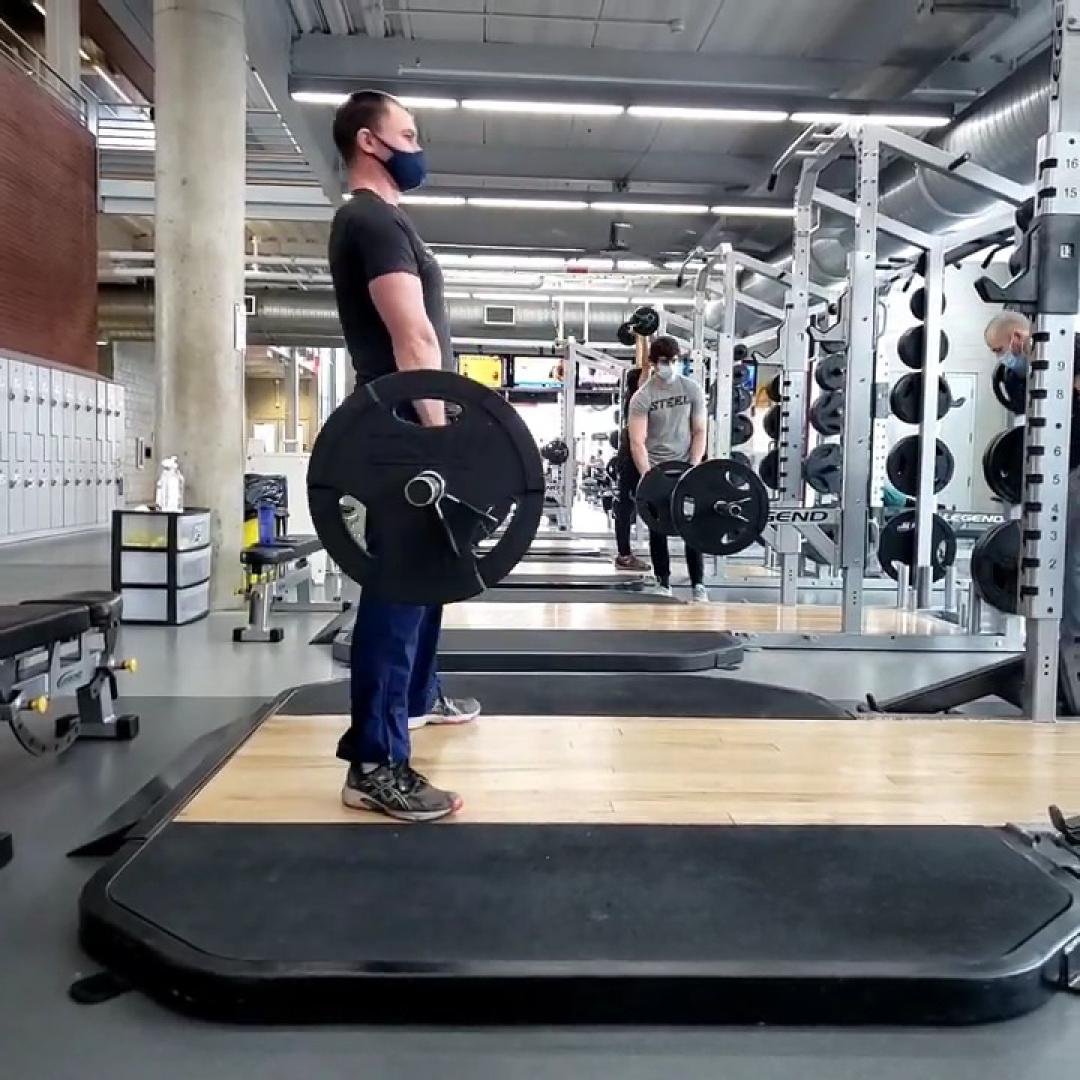Bar: (403, 475, 435, 507)
Barbell: (306, 369, 543, 606)
